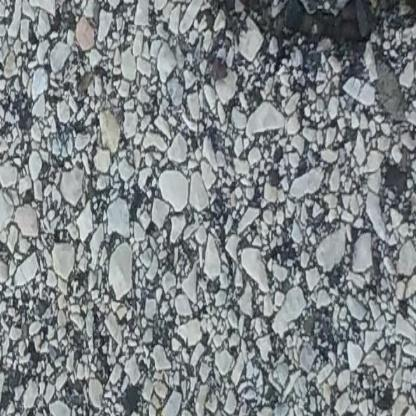Cracks: (195, 0, 416, 101)
